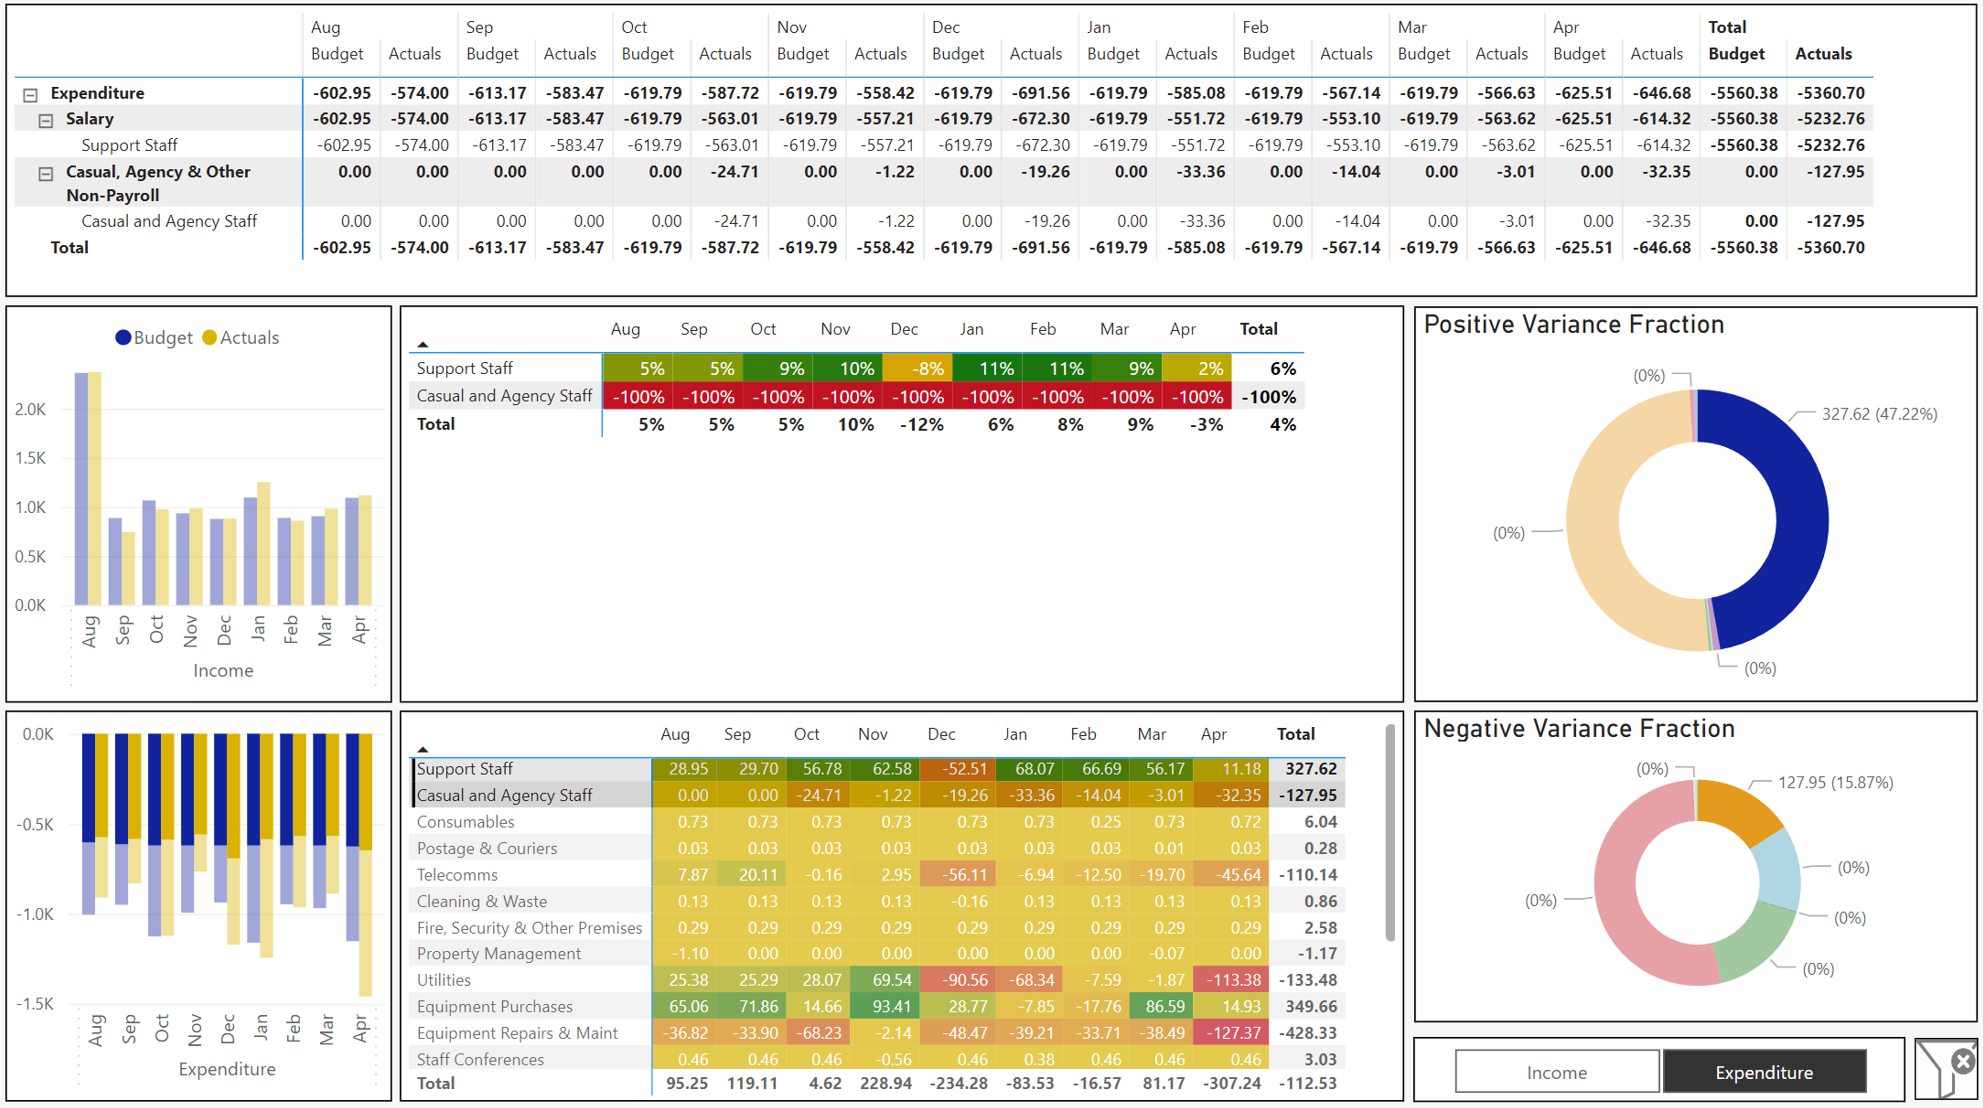

The dashboard page shown, as its layout file describes it:
{"tool":"powerbi","page":{"name":"Page 1","canvas":[1280,720],"ordinal":0},"visuals":[{"type":"slicer","fields":{"Values":["IE_Data.IE"]},"box":[46.7,596.5,150.5,49.8],"z":0},{"type":"slicer","fields":{"Values":["IE_Data.IE"]},"box":[98.3,247.6,143.8,51.6],"z":1000},{"type":"clusteredColumnChart","title":"Income by Month","fields":{"Category":["IE_Data.IE","IE_Data.Month"],"Y":["Sum(IE_Data.Budget)","Sum(IE_Data.Actuals)"]},"box":[4.9,460.8,249.4,251.9],"z":2000},{"type":"clusteredColumnChart","title":"Income by Month","fields":{"Category":["IE_Data.IE","IE_Data.Month"],"Y":["IE_Data.Budget_ABS","IE_Data.Actuals_ABS"]},"box":[4.9,199.7,249.4,256.2],"z":3000},{"type":"pivotTable","fields":{"Rows":["IE_Data.IE","IE_Data.Category","IE_Data.Subcategory"],"Columns":["IE_Data.Month"],"Values":["Sum(IE_Data.Budget)","Sum(IE_Data.Actuals)"]},"box":[4.9,5.5,1269.8,188.6],"z":4000},{"type":"pivotTable","fields":{"Columns":["IE_Data.Month"],"Values":["IE_Data.Varience"],"Rows":["IE_Data.Subcategory"]},"box":[258.6,460.8,646.9,251.9],"z":5000},{"type":"pivotTable","fields":{"Rows":["IE_Data.Subcategory"],"Columns":["IE_Data.Month"],"Values":["IE_Data.Varience %"]},"box":[258.6,199.7,646.9,256.2],"z":6000},{"type":"slicer","fields":{"Values":["IE_Data.IE"]},"box":[911.7,670.9,317,41.8],"z":7000},{"type":"donutChart","title":"Positive Variance Fraction","fields":{"Y":["IE_Data.Variance_Positive"],"Category":["IE_Data.Subcategory"]},"box":[911.9,200.2,362.8,255.5],"z":8000},{"type":"donutChart","title":"Negative Variance Fraction","fields":{"Category":["IE_Data.Subcategory"],"Y":["IE_Data.Variance_Negative"]},"box":[911.9,460.9,362.8,201.5],"z":9000},{"type":"actionButton","box":[1234.2,671.5,40.5,39.9],"z":9001}]}

Visuals, with their boxes in screenshot pixels (x1, y1, x2, y2), scaled from the page's 1280x720 canvas onto the 1983x1108 screenshot:
slicer - IE_Data.IE: detection(72, 918, 306, 995)
slicer - IE_Data.IE: detection(152, 381, 375, 460)
"Income by Month" clusteredColumnChart: detection(8, 709, 394, 1097)
"Income by Month" clusteredColumnChart: detection(8, 307, 394, 702)
pivotTable - IE_Data.IE x IE_Data.Category: detection(8, 8, 1975, 299)
pivotTable - IE_Data.Month x IE_Data.Varience: detection(401, 709, 1403, 1097)
pivotTable - IE_Data.Subcategory x IE_Data.Month: detection(401, 307, 1403, 702)
slicer - IE_Data.IE: detection(1412, 1032, 1904, 1097)
"Positive Variance Fraction" donutChart: detection(1413, 308, 1975, 701)
"Negative Variance Fraction" donutChart: detection(1413, 709, 1975, 1019)
actionButton: detection(1912, 1033, 1975, 1095)
